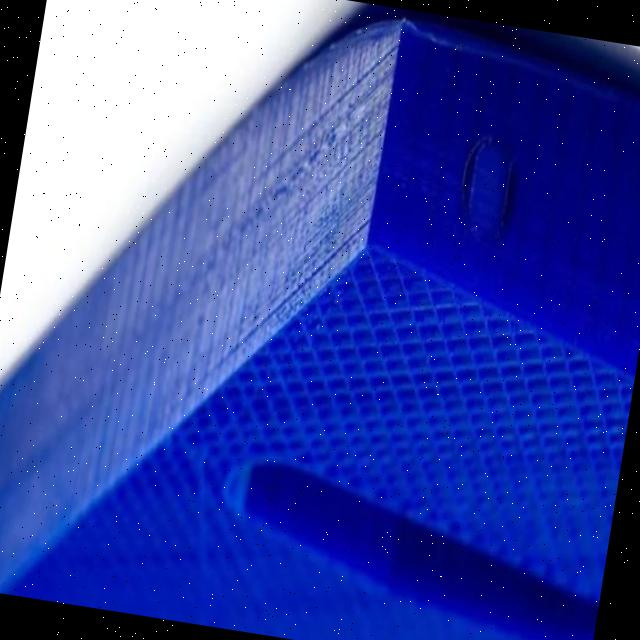cracks: (291, 1, 632, 97)
